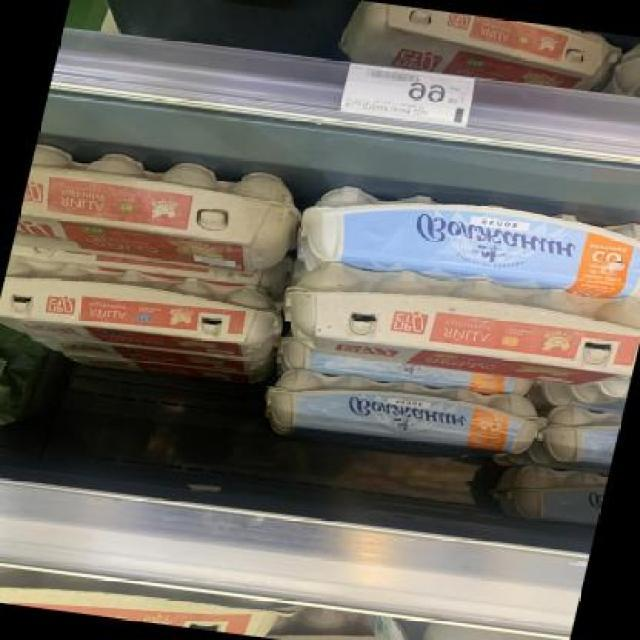Egg: (274, 254, 640, 394), (13, 142, 305, 278), (0, 251, 289, 371)
